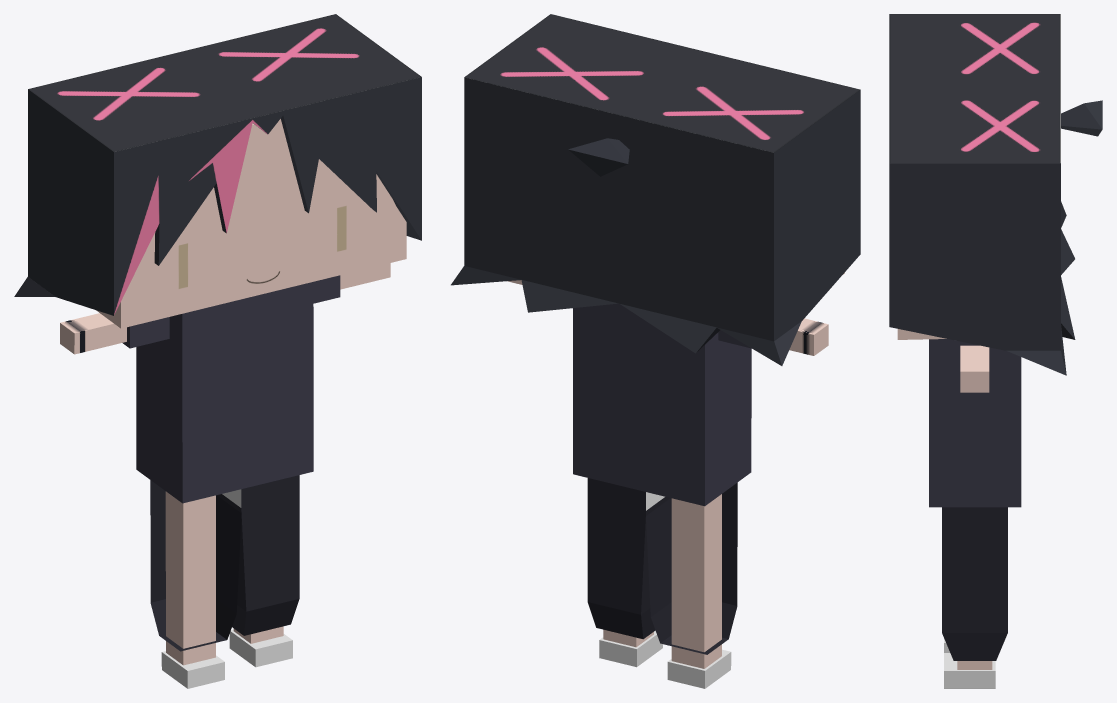
Rendered from mininaru.glb.
The picture shows the model from 3 angles, left to right: view 1: azimuth 30°, elevation 25°; view 2: azimuth 150°, elevation 25°; view 3: azimuth 270°, elevation 25°; orthographic projection.
Parts seen in each view (by area): view 1: 立方体.006, 立方体.011, Cube, 立方体.003, 立方体.002, 立方体.012, 立方体.016, 立方体.017, 立方体.004, 立方体.005, 立方体.013; view 2: 立方体.006, 立方体.011, 立方体.003, 立方体.002, 立方体.010, 立方体.009, 立方体.018, 立方体.016, 立方体.017, 立方体.008, 立方体.012, 立方体.007; view 3: 立方体.006, 立方体.011, 立方体.003, 立方体.005, 立方体.017, 立方体.018, 立方体.007, 立方体.009, 立方体.013, 立方体.010.
Part boxes in pixels (x1,y1,x2,y2): 立方体.006: (28, 14, 421, 315); 立方体.011: (136, 282, 313, 503); Cube: (96, 119, 406, 328); 立方体.003: (150, 475, 299, 651); 立方体.002: (165, 491, 215, 665); 立方体.012: (60, 313, 126, 354); 立方体.016: (161, 651, 224, 688); 立方体.017: (229, 629, 292, 667); 立方体.004: (122, 317, 169, 348); 立方体.005: (340, 263, 390, 289); 立方体.013: (313, 275, 340, 303); 立方体.006: (464, 14, 860, 341); 立方体.011: (573, 303, 751, 506); 立方体.003: (587, 478, 737, 654); 立方体.002: (671, 494, 721, 668); 立方体.010: (620, 304, 719, 353); 立方体.009: (521, 280, 618, 312); 立方体.018: (568, 138, 629, 176); 立方体.016: (667, 649, 731, 688); 立方体.017: (599, 630, 662, 667); 立方体.008: (717, 321, 801, 365); 立方体.012: (789, 318, 828, 355); 立方体.007: (451, 266, 520, 285); 立方体.006: (889, 14, 1060, 350); 立方体.011: (929, 339, 1021, 507); 立方体.003: (942, 507, 1007, 660); 立方体.005: (960, 345, 989, 392); 立方体.017: (944, 653, 995, 688); 立方体.018: (1061, 100, 1102, 136); 立方体.007: (1006, 325, 1066, 375); 立方体.009: (1061, 277, 1075, 339); 立方体.013: (954, 340, 994, 371); 立方体.010: (1061, 229, 1074, 274).
Bounding box in the file's own units: 1.31 × 2.2 × 0.7334.
21 materials, 21 textured.
